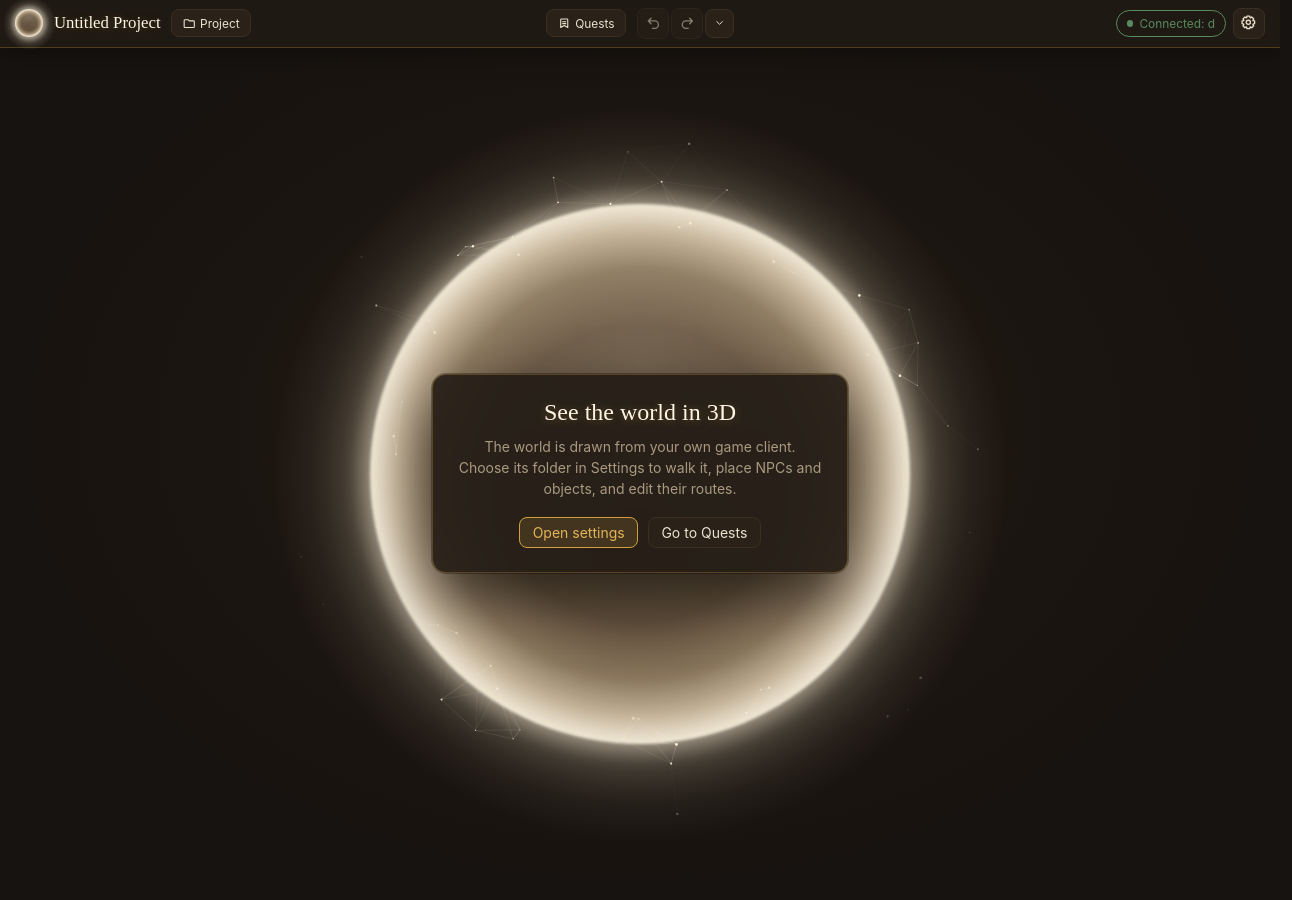
Test case: chain dock error reporting › shows an exhausted ID range instead of doing nothing
Click the button "Quests".
click(586, 23)  # box [546, 10, 626, 37]
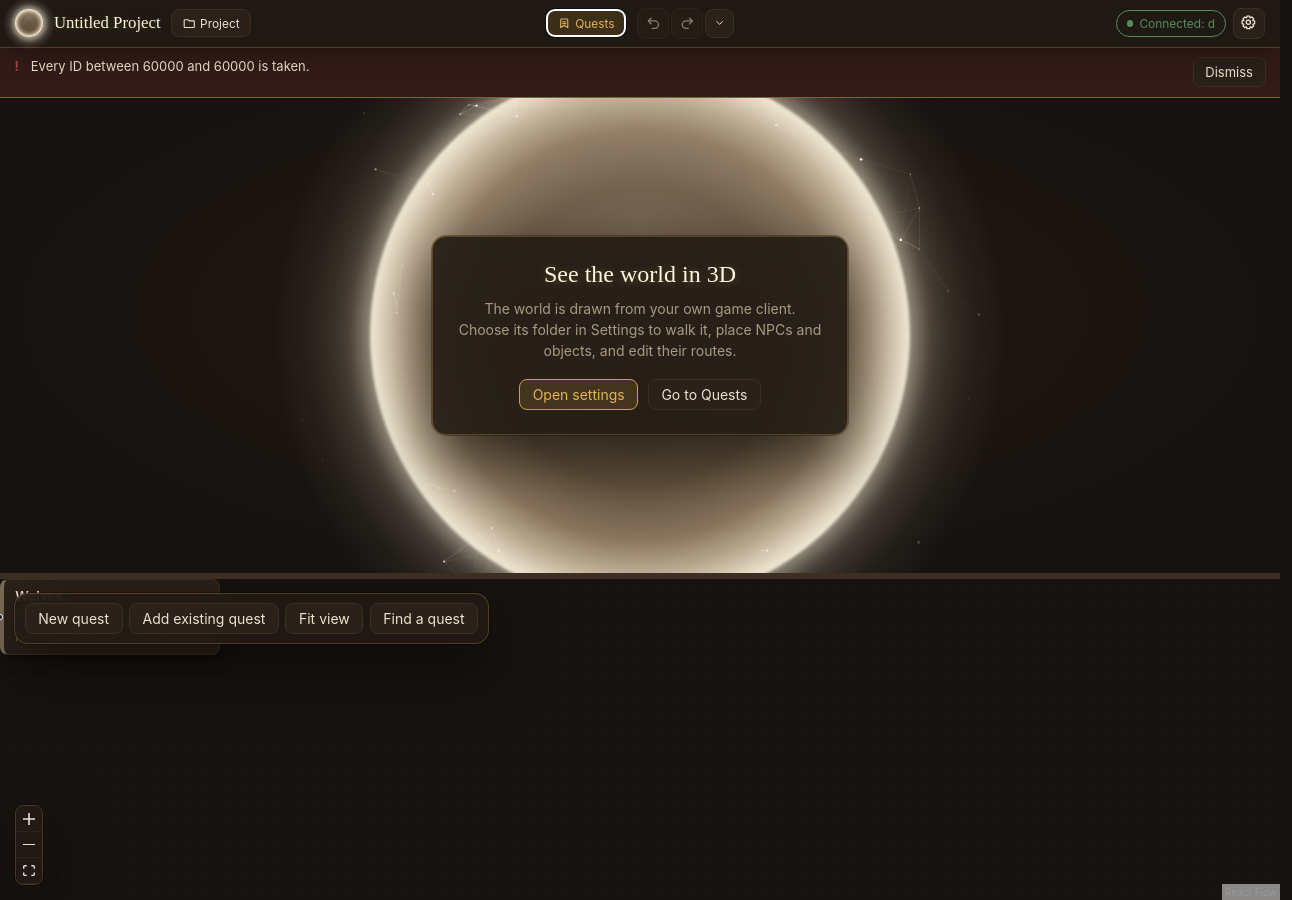
Check: the message "! Every ID between 60000 and 60000 is taken. Dismiss" is shown, box [0, 48, 1280, 98]
